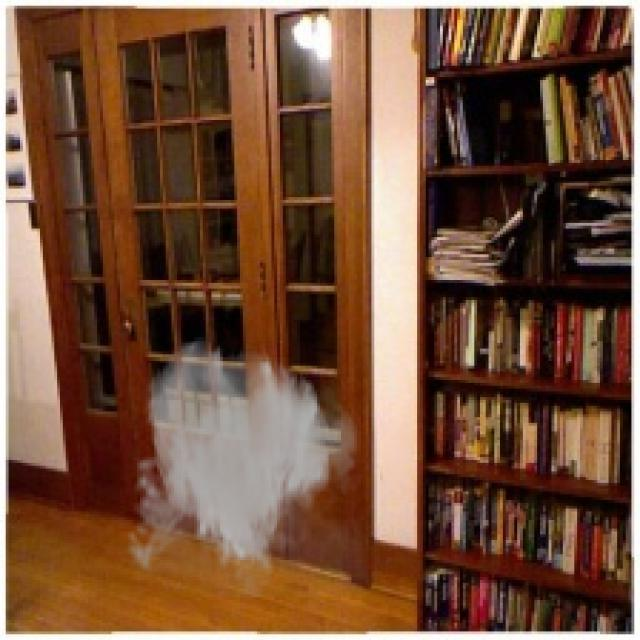Smoke: (120, 334, 366, 597)
